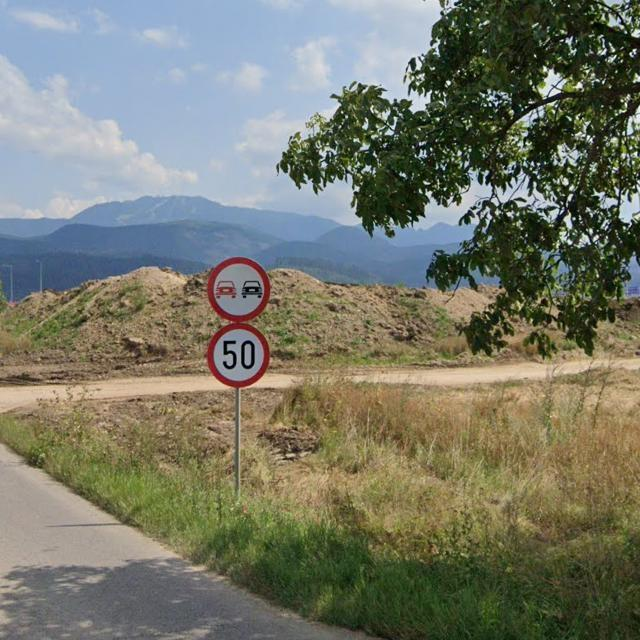forb_overtake: (205, 255, 270, 323)
forb_speed_over_50: (204, 322, 272, 387)
